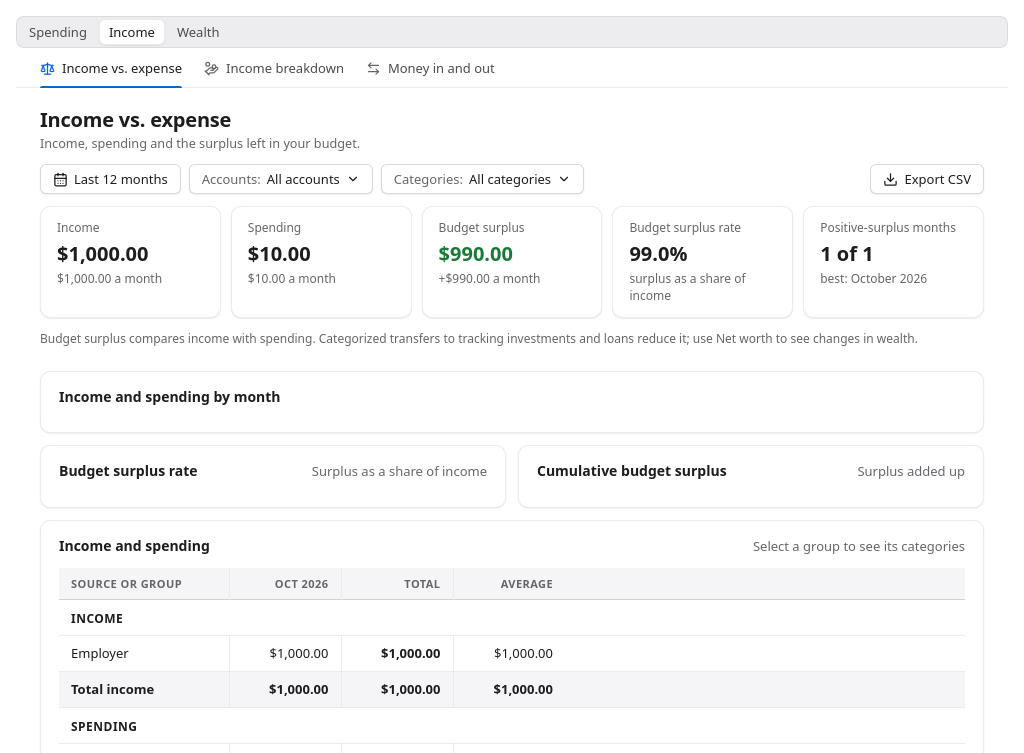
Test case: offers expense filtering for income vs expense and keeps the income visible
Check: the text "Employer" is shown, box [59,636,229,671]
Click the button "Categories: All categories": (482,179) [381,164,584,194]
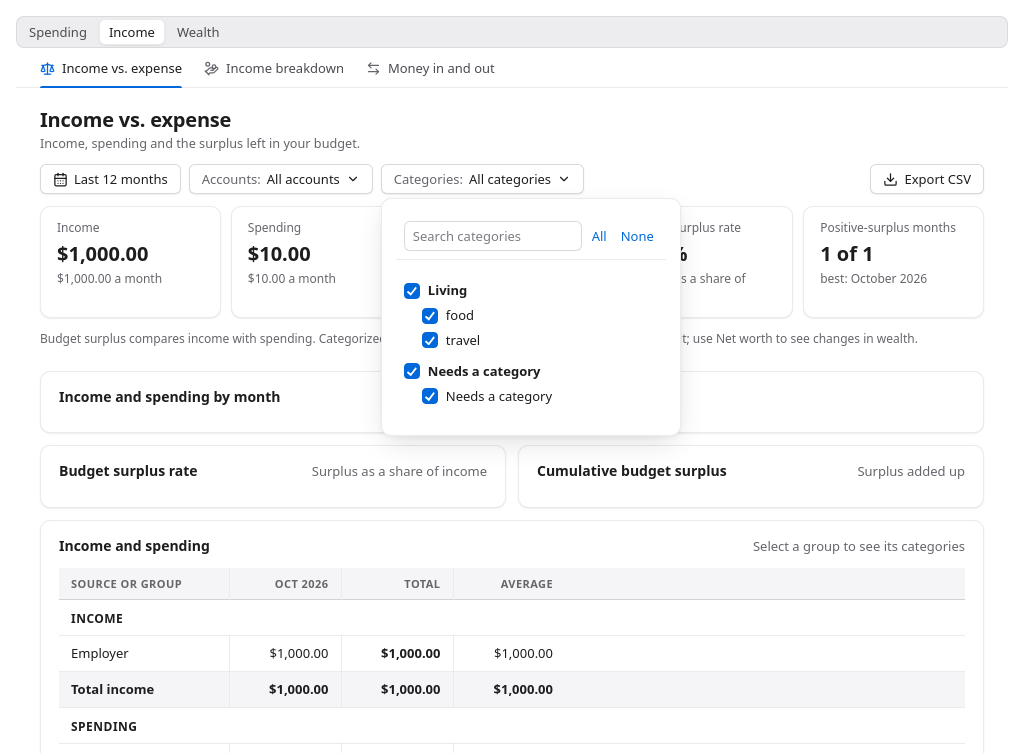
Click the checkbox labelled "travel": (430,340) [422,332,438,348]
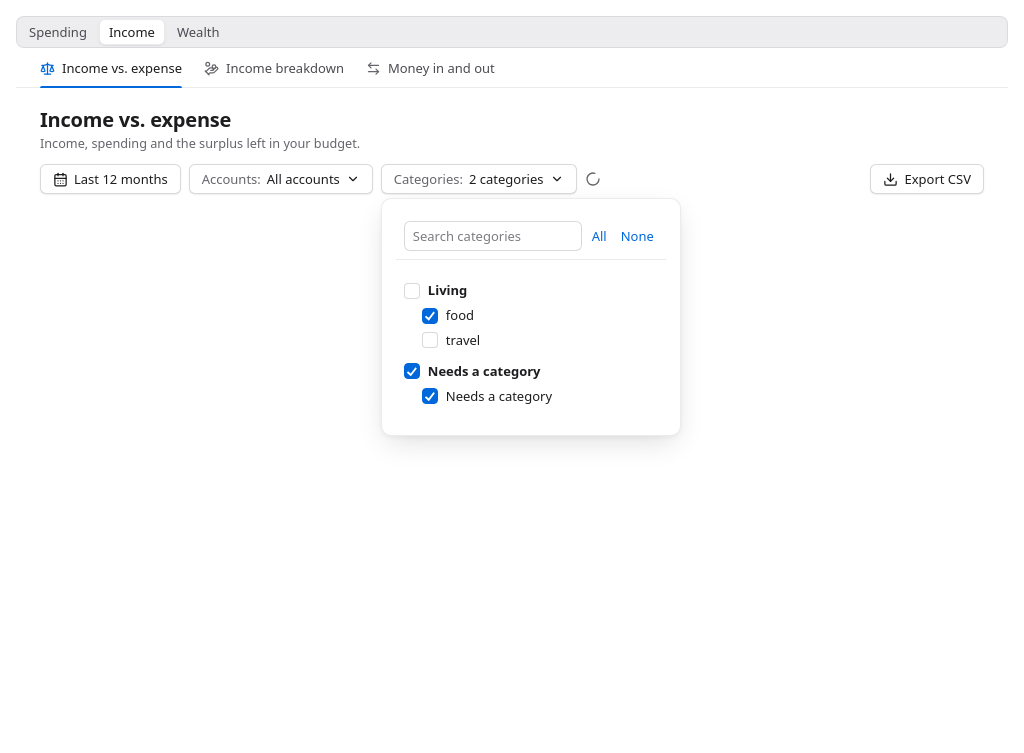
Press Escape
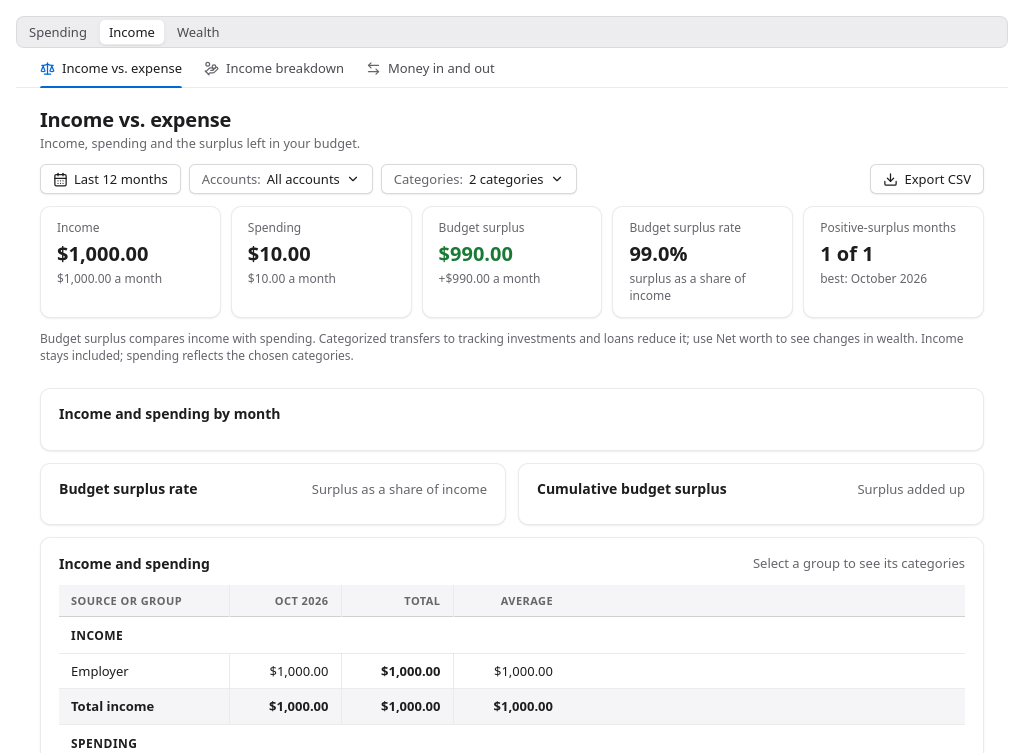
Check: the text "Employer" is shown, box [59,653,229,689]
